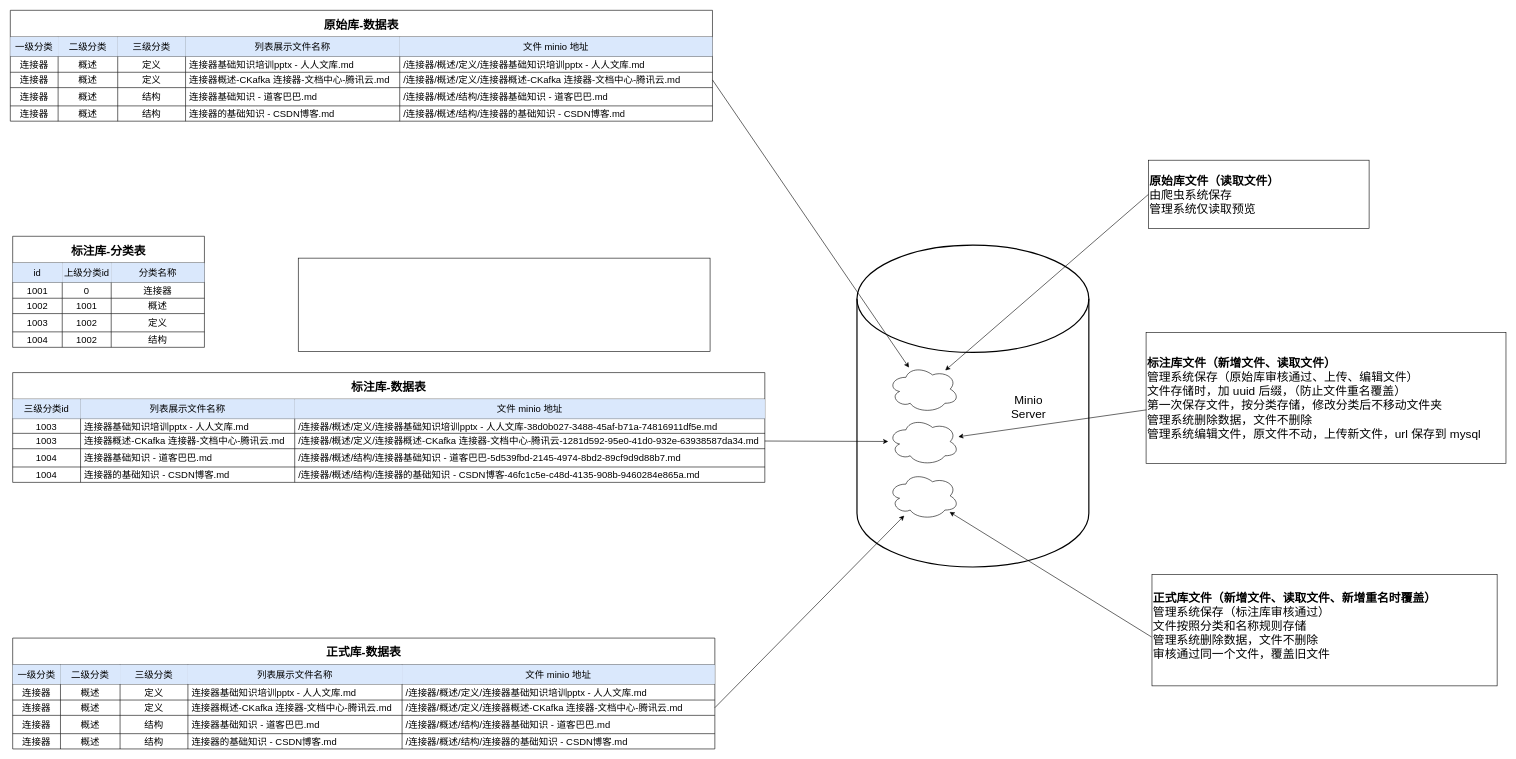
Some shapes in this 1516 by 759 pixel diagram are drawn without their labels. The centre of each missing label's shape, as x and y in pixels:
"bucket formal" belongs at point (923, 495).
"bucket origin" belongs at point (923, 389).
"bucket tagging" belongs at point (923, 441).
"标注库数据 分类与文件分开管理，用 id 关联 编辑分类时，仅修改分类表，文件表不修改 修改文件分类时，仅修改mysql 文件分类 id，不移动文件" belongs at point (504, 304).
